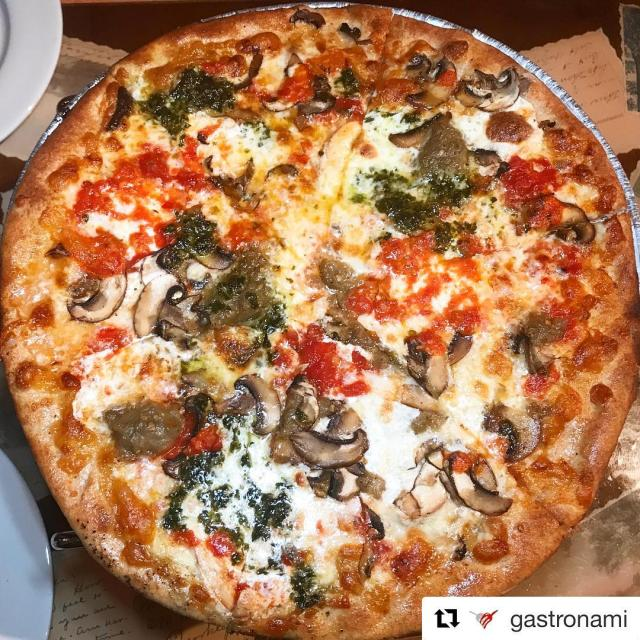black_olives: (162, 455, 189, 480), (165, 285, 186, 305)
mushrooms: (426, 450, 513, 515), (289, 408, 369, 468), (270, 376, 319, 463), (528, 195, 595, 244), (406, 330, 449, 398), (68, 274, 128, 322), (455, 67, 520, 111), (308, 464, 385, 501), (134, 274, 178, 336), (236, 375, 281, 435), (407, 56, 458, 108), (490, 405, 532, 454), (389, 114, 442, 147), (298, 75, 336, 116), (235, 50, 264, 89), (290, 9, 325, 28)
pizza: (0, 5, 639, 640)
